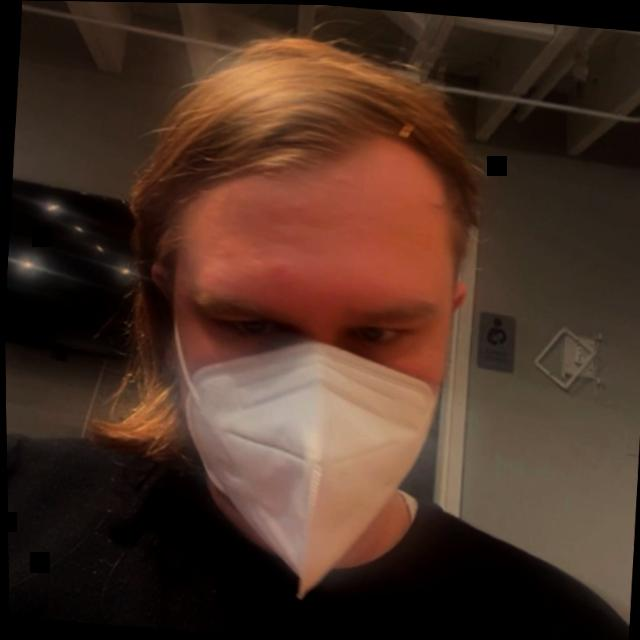Mask: (70, 22, 513, 590)
